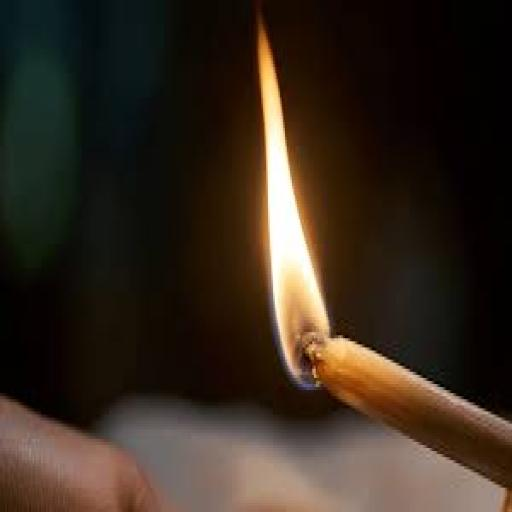fire: (256, 18, 329, 387)
